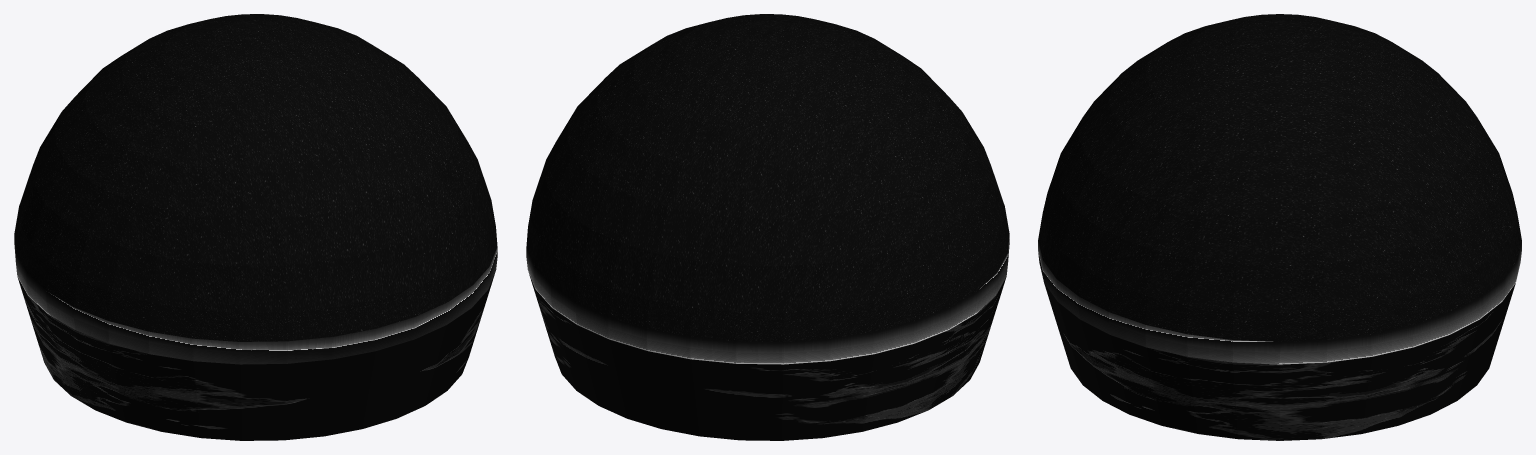
File: VROrbit_bake.dae
3 views of the same model, side by side, from view 1: azimuth 30°, elevation 25°; view 2: azimuth 150°, elevation 25°; view 3: azimuth 270°, elevation 25° (orthographic).
Visible parts, largest first — view 1: m3, m0, m4; view 2: m3, m0, m4; view 3: m3, m0, m4.
Part boxes in pixels (x1=…): m3: x1=14, y1=14, x2=497, y2=341; m0: x1=17, y1=272, x2=495, y2=440; m4: x1=14, y1=234, x2=497, y2=364; m3: x1=526, y1=14, x2=1009, y2=341; m0: x1=528, y1=272, x2=1006, y2=440; m4: x1=526, y1=234, x2=1009, y2=364; m3: x1=1038, y1=14, x2=1521, y2=341; m0: x1=1044, y1=283, x2=1515, y2=440; m4: x1=1038, y1=240, x2=1521, y2=364.
Size of the model in its own units: 1570266 by 1125715 by 1570265.
7 materials, 7 textured.
